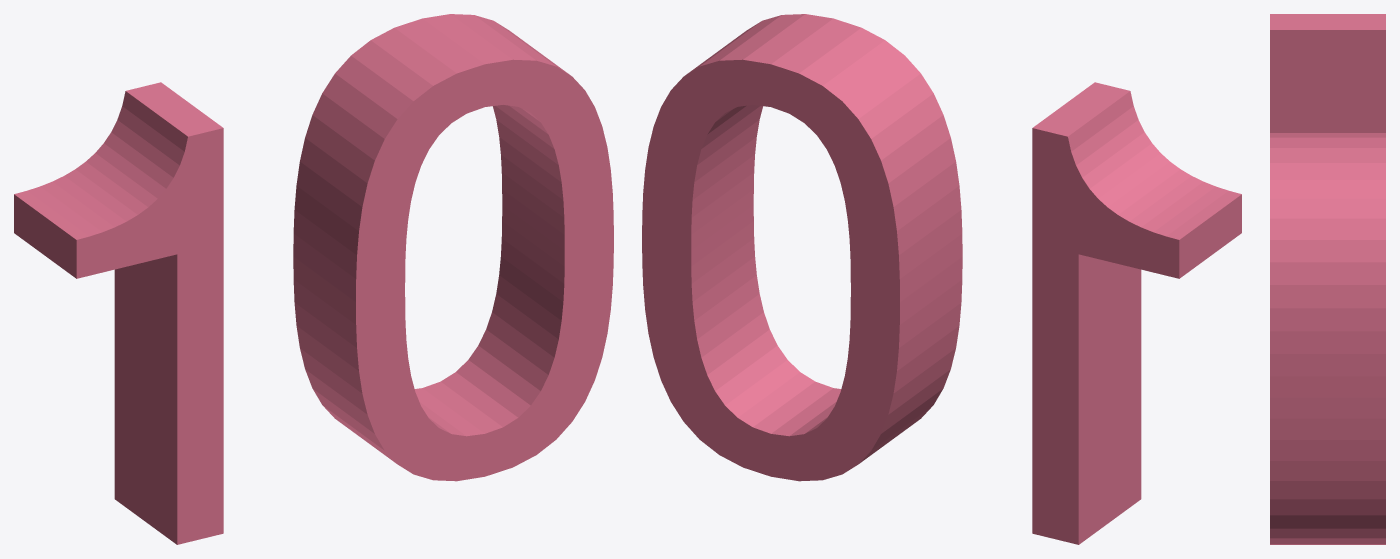
3 renders of one model, left to right at view 1: azimuth 30°, elevation 25°; view 2: azimuth 150°, elevation 25°; view 3: azimuth 270°, elevation 25°, orthographic. The views are drawn at different scales.
Visible parts, largest first — view 1: 1.009; view 2: 1.009; view 3: 1.009.
Part boxes in pixels (x1,y1,x2,y2): 1.009: (14, 14, 613, 544); 1.009: (642, 14, 1241, 544); 1.009: (1270, 14, 1385, 544).
Bounding box in the file's own units: 84.31 × 61.84 × 17.
